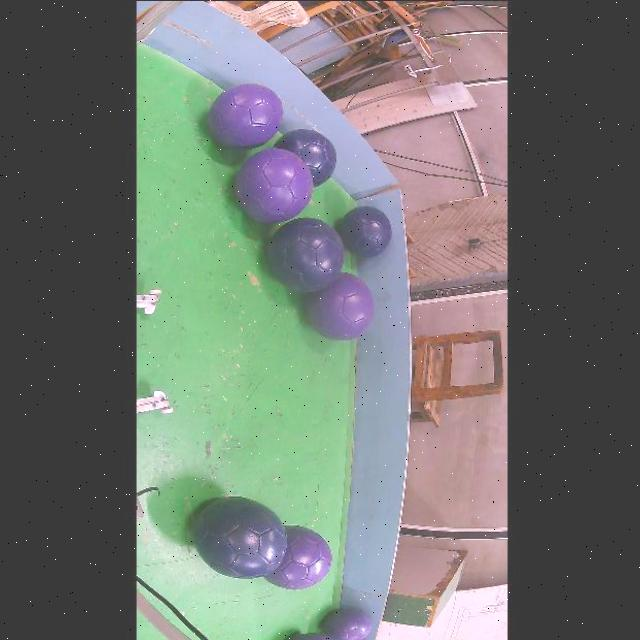B: (193, 495, 287, 578), (267, 217, 344, 291), (274, 129, 336, 187), (338, 205, 391, 257), (284, 631, 334, 640)
P: (234, 147, 313, 222), (207, 82, 283, 148), (306, 272, 374, 339), (265, 525, 332, 589), (320, 607, 371, 640)
